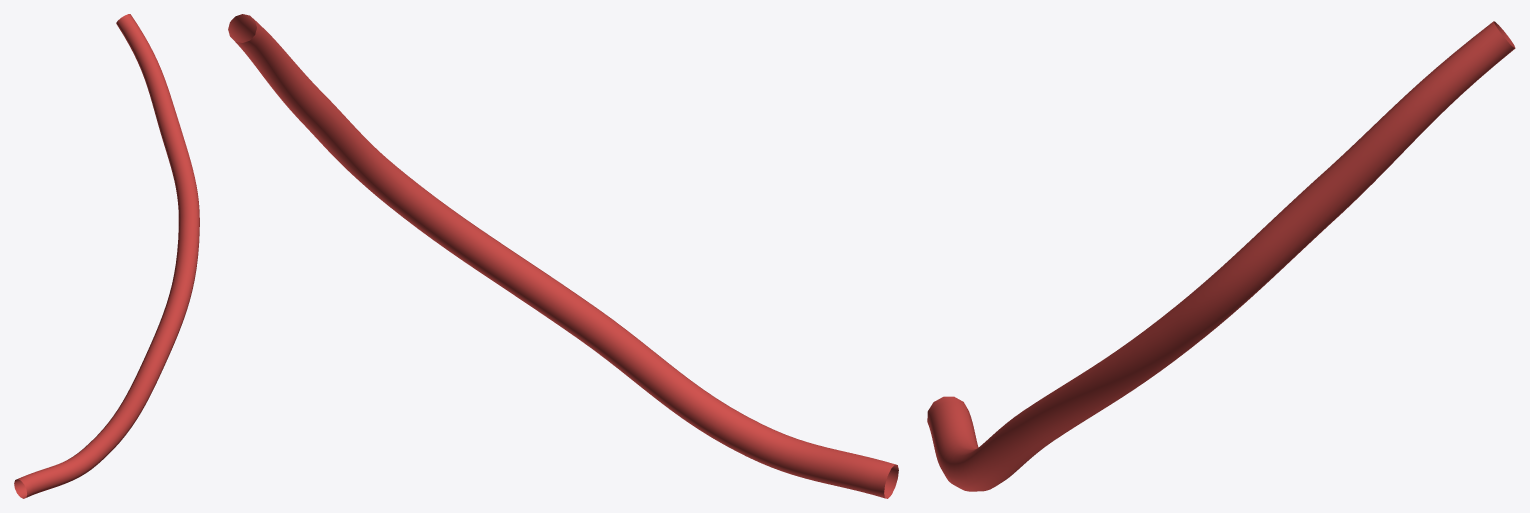
3 views of the same model, side by side, from view 1: azimuth 30°, elevation 25°; view 2: azimuth 150°, elevation 25°; view 3: azimuth 270°, elevation 25° (orthographic). The views are drawn at different scales.
Visible parts, largest first — view 1: 左侧弓形动脉; view 2: 左侧弓形动脉; view 3: 左侧弓形动脉.
Boxes of the visible parts, bbox=[...] form: 左侧弓形动脉: bbox=[14, 14, 199, 498]; 左侧弓形动脉: bbox=[228, 14, 898, 498]; 左侧弓形动脉: bbox=[927, 21, 1515, 491].
Size of the model in its own units: 0.0448 by 0.054 by 0.0443.
